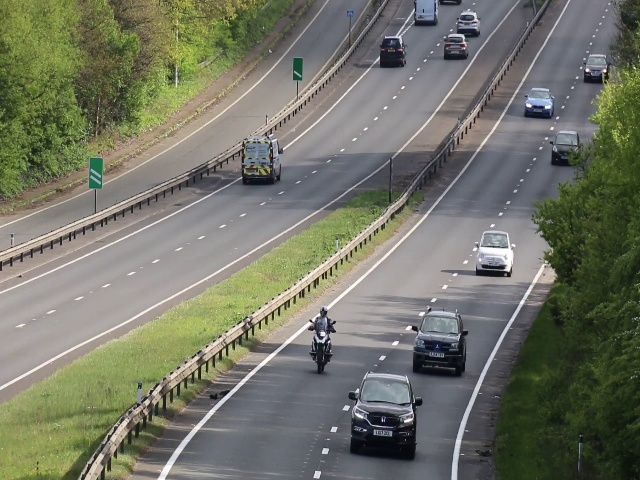car: (348, 372, 417, 458), (414, 309, 463, 376), (241, 135, 282, 183), (477, 231, 513, 274), (524, 86, 555, 117), (379, 35, 408, 67), (554, 134, 579, 163), (584, 54, 608, 82), (443, 33, 468, 58), (458, 11, 482, 34)
